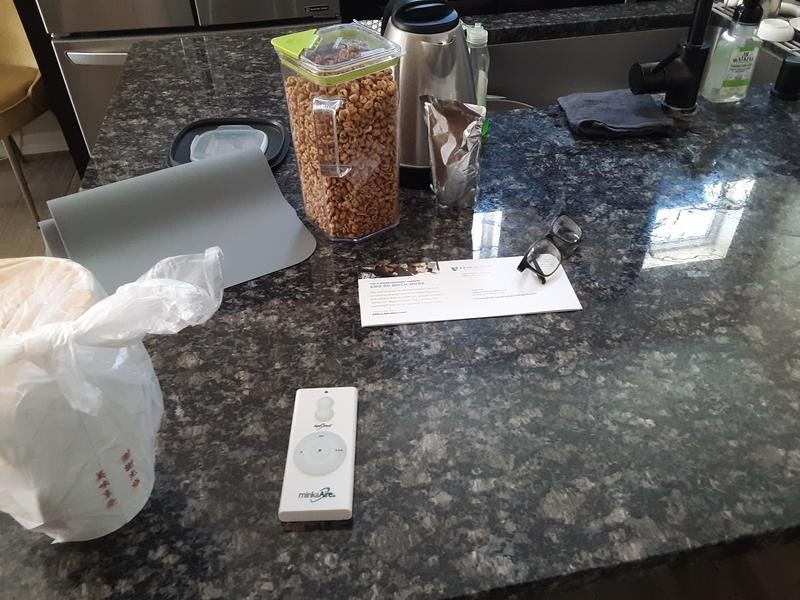glasses: (516, 211, 584, 284)
